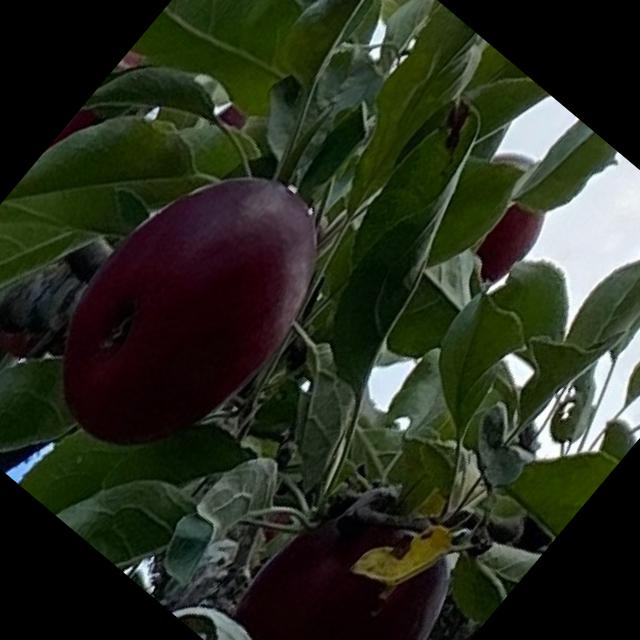Apples: (18, 129, 358, 484), (204, 468, 480, 639), (38, 45, 168, 188), (461, 194, 551, 289)
